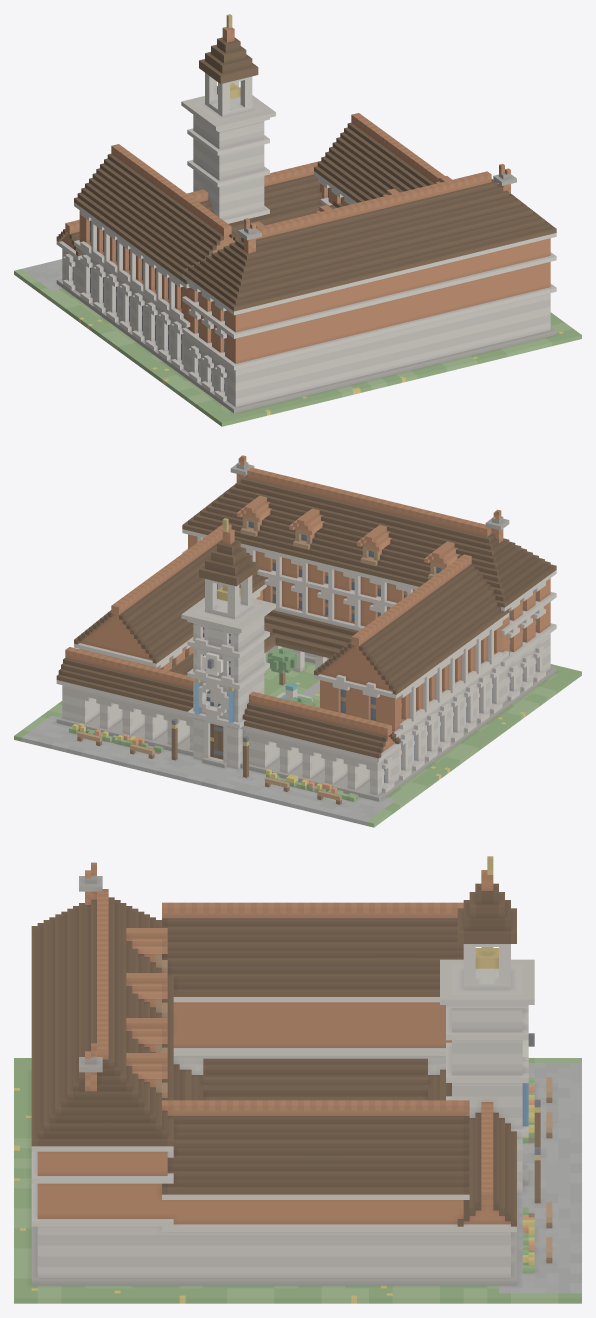
Rendered from university.glb.
3 renders of one model, top to bottom at view 1: azimuth 30°, elevation 25°; view 2: azimuth 150°, elevation 25°; view 3: azimuth 270°, elevation 25°, orthographic. The views are drawn at different scales.
Visible parts, largest first — view 1: university; view 2: university; view 3: university.
Boxes of the visible parts, x1=… form: university: x1=14, y1=14, x2=581, y2=426; university: x1=14, y1=455, x2=581, y2=827; university: x1=14, y1=856, x2=581, y2=1303.
Bounding box in the file's own units: 12 × 7.62 × 12.
